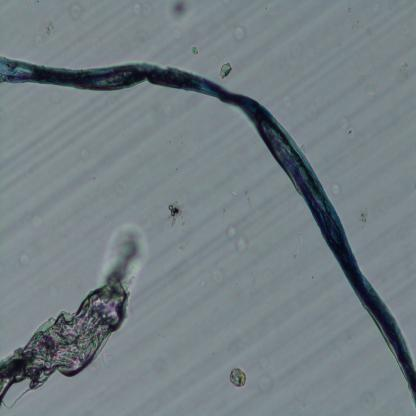Background material: (351, 65, 376, 97), (226, 223, 250, 255), (228, 20, 251, 53), (336, 110, 355, 146), (28, 198, 47, 232), (164, 194, 184, 223), (227, 363, 247, 390), (167, 0, 190, 21), (128, 0, 152, 18), (66, 1, 86, 21), (257, 374, 275, 395), (218, 59, 234, 82), (210, 265, 225, 286), (41, 18, 54, 40), (399, 64, 413, 77), (357, 213, 370, 225)
Cellulose filter fibre: (0, 228, 147, 405)
Cotton: (0, 53, 416, 406)
